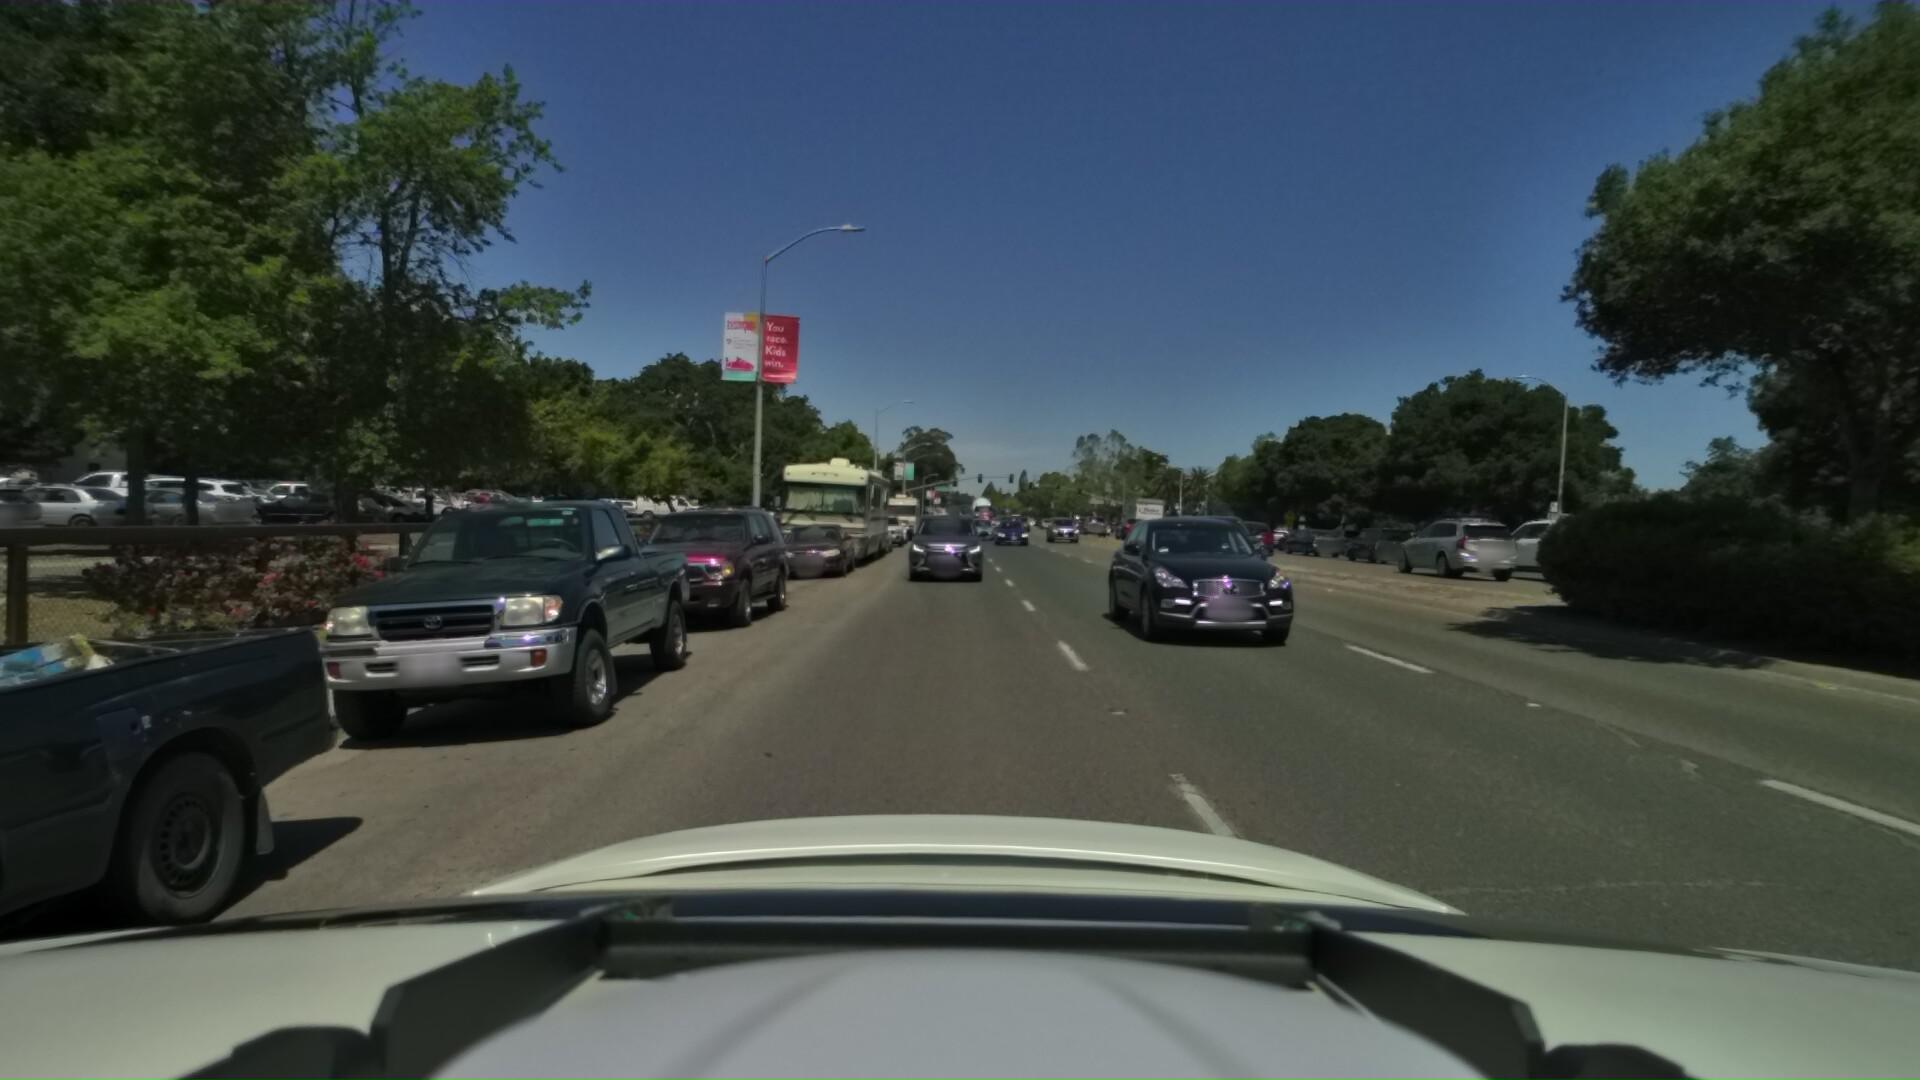car: (327, 477, 712, 750), (607, 491, 802, 636), (1084, 506, 1271, 636), (1465, 510, 1643, 582), (1375, 504, 1516, 576), (1155, 502, 1258, 574), (895, 500, 982, 580), (771, 516, 858, 580), (1336, 520, 1410, 560), (1215, 514, 1278, 549), (843, 514, 893, 554), (1305, 520, 1364, 553), (1280, 524, 1340, 553), (862, 506, 903, 543), (1110, 512, 1154, 539), (989, 514, 1025, 542), (1040, 512, 1073, 539), (876, 513, 906, 542), (963, 512, 993, 539), (1076, 509, 1104, 531)
other_vehicle: (773, 436, 890, 570), (876, 489, 919, 535)
truck: (1112, 485, 1163, 530)
